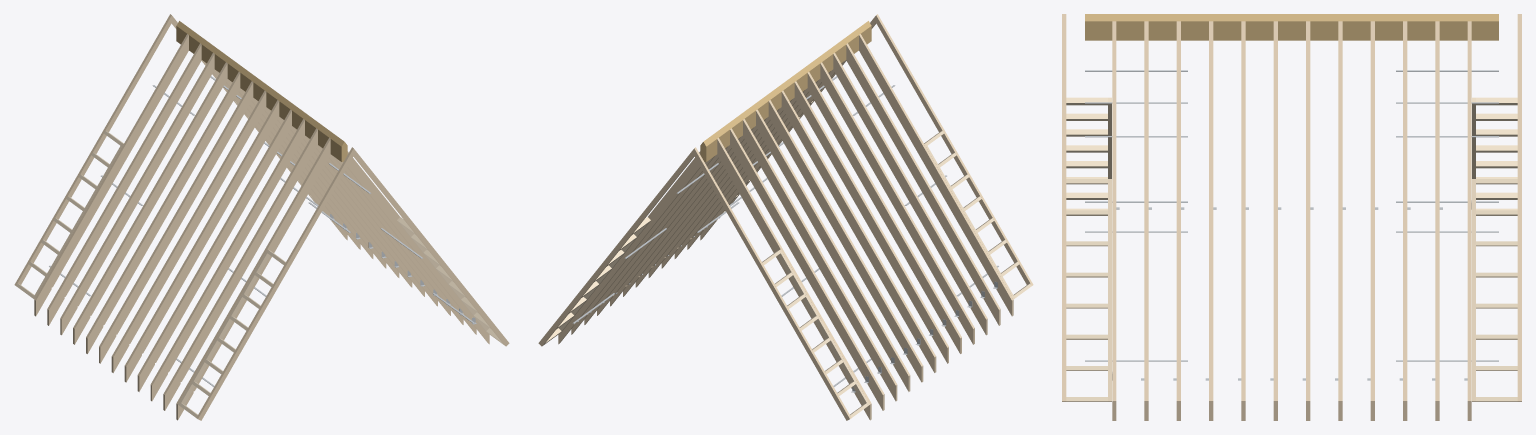
The model's file is stage-4.glb.
3 views of the same model, side by side, from view 1: azimuth 30°, elevation 25°; view 2: azimuth 150°, elevation 25°; view 3: azimuth 270°, elevation 25° (orthographic). The views are drawn at different scales.
Visible parts, largest first — view 1: Geom3D_R02 common 47 x 147 C24 L4583, Geom3D_GB01 ridge beam 100 x 320 GL24h L5361, Geom3D_OR28 outrigger 47 x 72 C24 L488, Geom3D_LR27 ladder rail 47 x 72 C24 L2629, Geom3D_TCP47 clip; view 2: Geom3D_R02 common 47 x 147 C24 L4583, Geom3D_GB01 ridge beam 100 x 320 GL24h L5361, Geom3D_OR28 outrigger 47 x 72 C24 L488, Geom3D_LR27 ladder rail 47 x 72 C24 L2629, Geom3D_TCP47 clip; view 3: Geom3D_R02 common 47 x 147 C24 L4583, Geom3D_GB01 ridge beam 100 x 320 GL24h L5361, Geom3D_OR28 outrigger 47 x 72 C24 L488, Geom3D_TCP47 clip, Geom3D_LR27 ladder rail 47 x 72 C24 L2629.
Part boxes in pixels (left/top/right/bottom): Geom3D_R02 common 47 x 147 C24 L4583: left=14, top=14, right=509, bottom=420; Geom3D_GB01 ridge beam 100 x 320 GL24h L5361: left=176, top=21, right=347, bottom=161; Geom3D_OR28 outrigger 47 x 72 C24 L488: left=16, top=101, right=503, bottom=417; Geom3D_LR27 ladder rail 47 x 72 C24 L2629: left=33, top=143, right=488, bottom=405; Geom3D_TCP47 clip: left=49, top=76, right=476, bottom=386; Geom3D_R02 common 47 x 147 C24 L4583: left=538, top=14, right=1033, bottom=420; Geom3D_GB01 ridge beam 100 x 320 GL24h L5361: left=700, top=21, right=871, bottom=161; Geom3D_OR28 outrigger 47 x 72 C24 L488: left=544, top=101, right=1031, bottom=417; Geom3D_LR27 ladder rail 47 x 72 C24 L2629: left=559, top=143, right=1014, bottom=405; Geom3D_TCP47 clip: left=572, top=76, right=998, bottom=392; Geom3D_R02 common 47 x 147 C24 L4583: left=1062, top=14, right=1521, bottom=420; Geom3D_GB01 ridge beam 100 x 320 GL24h L5361: left=1085, top=14, right=1498, bottom=40; Geom3D_OR28 outrigger 47 x 72 C24 L488: left=1066, top=97, right=1517, bottom=401; Geom3D_TCP47 clip: left=1085, top=70, right=1498, bottom=380; Geom3D_LR27 ladder rail 47 x 72 C24 L2629: left=1108, top=97, right=1475, bottom=401.
Bounding box in the file's own units: 5.26 × 4.01 × 5.36.
